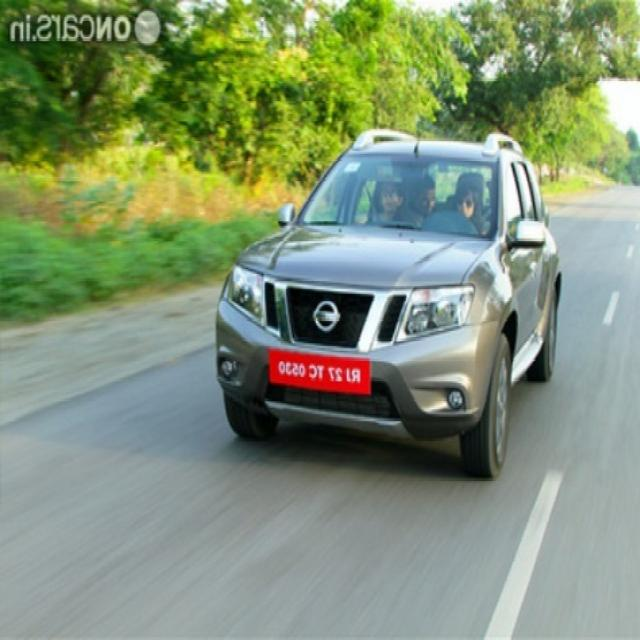license_plate: (267, 341, 376, 401)
